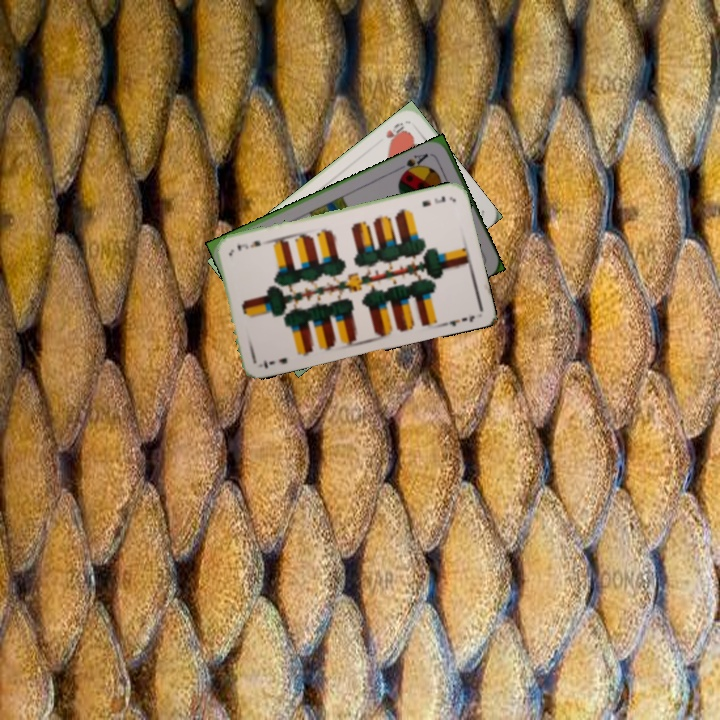E7: (260, 353, 290, 371), (418, 192, 448, 209)
HO: (382, 118, 409, 147)
SA: (399, 149, 431, 177)
